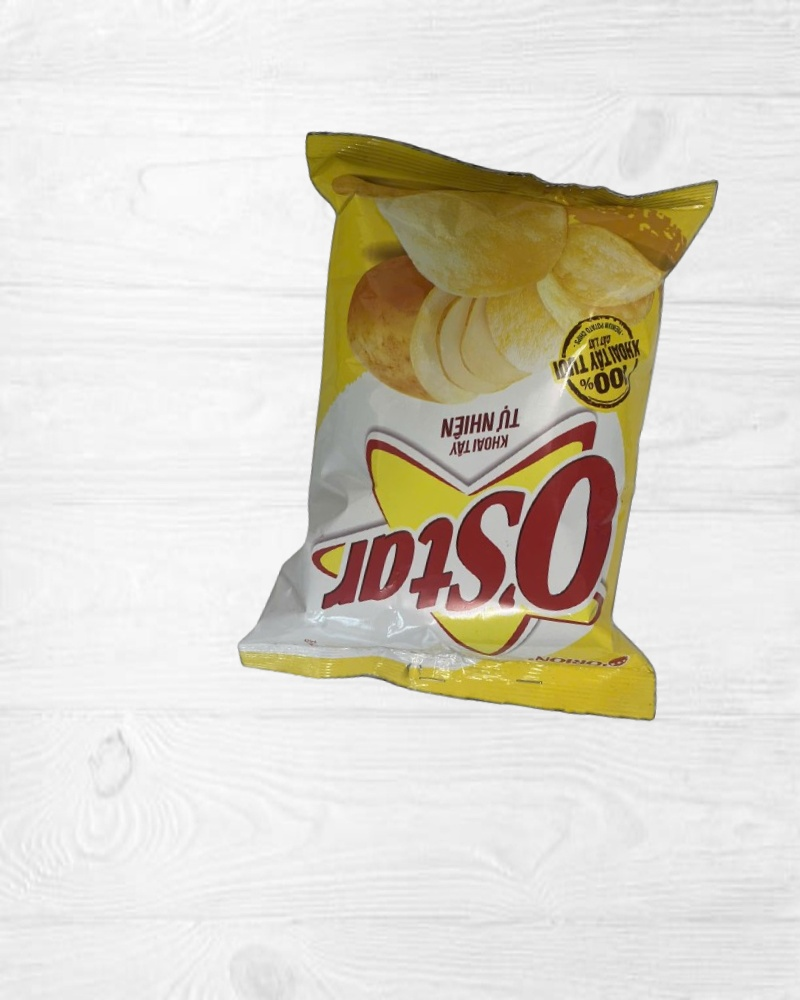Snack cua: (221, 117, 745, 732)
